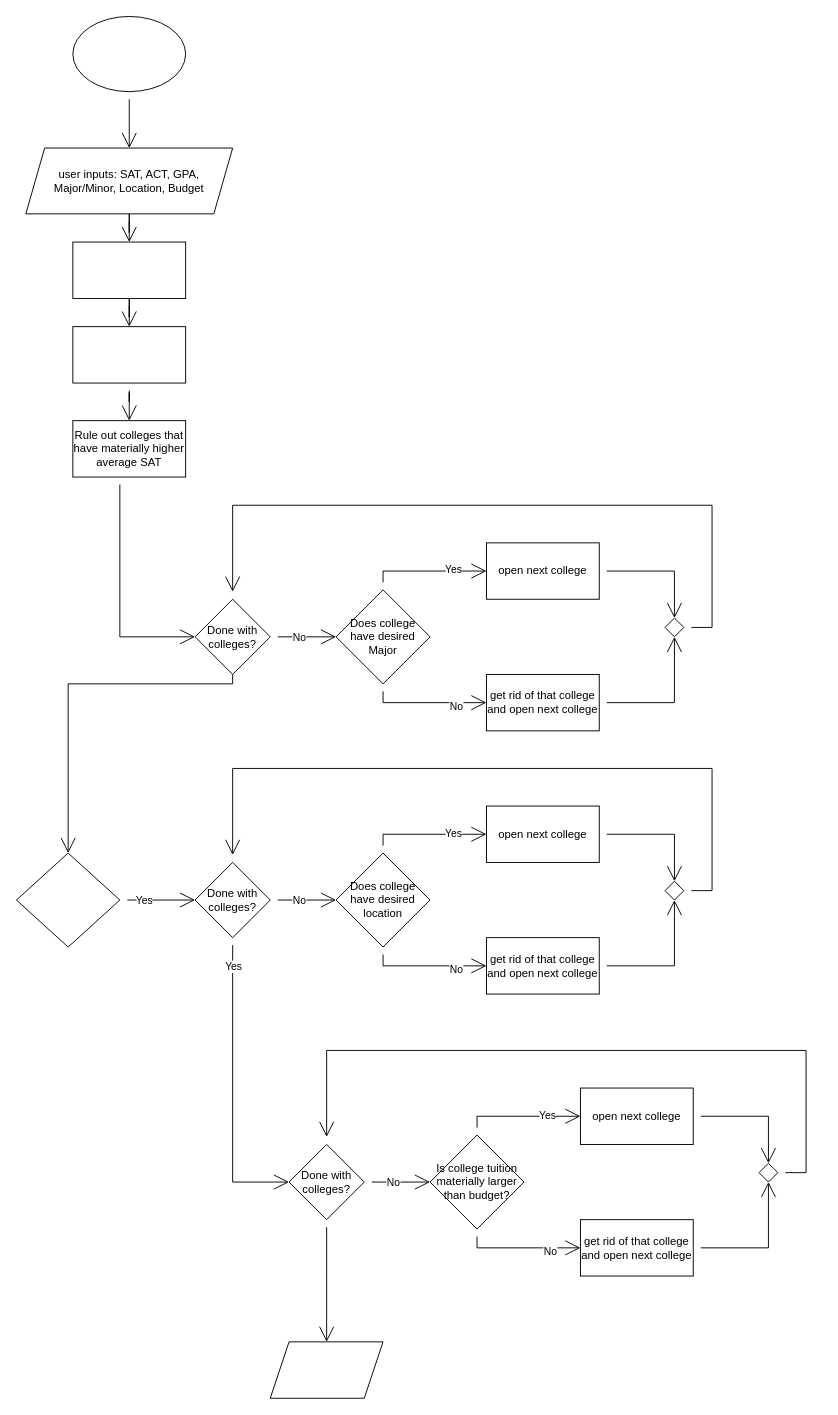
The diagram is 838 pixels wide and 1415 high, and some of its shapes have lost their labels. The centre of each missing label's shape, as x and y in pixels:
Does the location matter for the user: [68,899]
print remaining colleges: [326,1369]
Rule out colleges that have materially higher average ACT: [129,354]
Rule out colleges that have materially higher average GPA: [129,269]
Start: [129,54]
